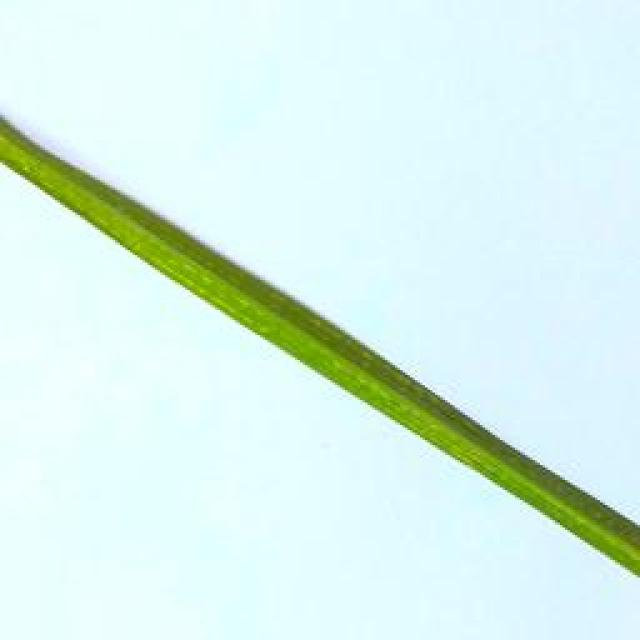Healthy-Plant: (0, 107, 640, 580)
